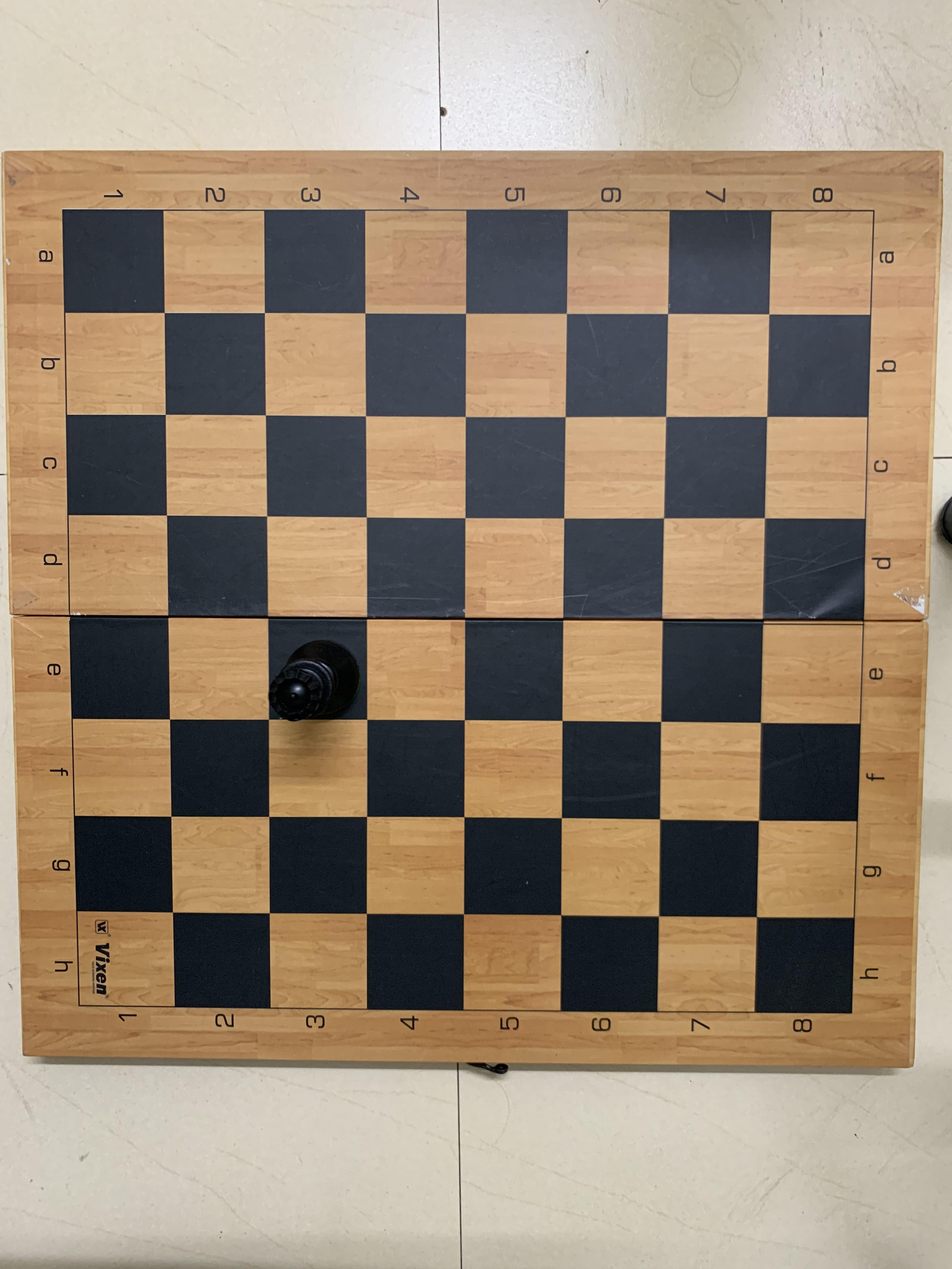black_queen: (266, 613, 367, 727)
